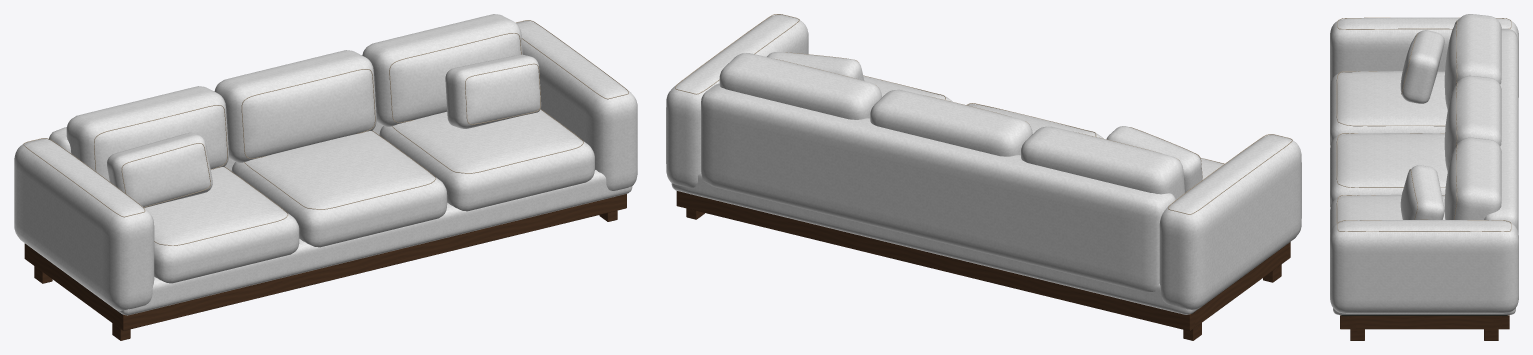
Rendered from arc-generous.glb.
3 views of the same model, side by side, from view 1: azimuth 30°, elevation 25°; view 2: azimuth 150°, elevation 25°; view 3: azimuth 270°, elevation 25° (orthographic). The views are drawn at different scales.
Parts seen in each view (by area): view 1: Tailored arm | left, Seat panel 2 | crowned top, Seat panel 3 | crowned top, Back cushion 2 | tensioned face, Seat panel 1 | crowned top, Upholstered support platform, Tailored arm | right, Back cushion 3 | tensioned face, Back cushion 1 | tensioned face, Walnut | long rail, Lumbar cushion | right, Lumbar cushion | left (+1 smaller); view 2: Continuous upholstered rear rail, Tailored arm | left, Walnut | long rail.001, Upholstered support platform, Tailored arm | right, Back cushion 1 | tensioned face, Back cushion 3 | tensioned face, Back cushion 2 | tensioned face, Lumbar cushion | left, Walnut | return rail, Lumbar cushion | right, Seat panel 2 | crowned top (+1 smaller); view 3: Tailored arm | right, Seat panel 2 | crowned top, Seat panel 1 | crowned top, Tailored arm | left, Back cushion 3 | tensioned face, Continuous upholstered rear rail, Back cushion 1 | tensioned face, Back cushion 2 | tensioned face, Lumbar cushion | left, Walnut | return rail.001, Lumbar cushion | right, Seat panel 3 | crowned top (+10 smaller).
Part boxes in pixels (box(x1,y1,x2,y2)): Tailored arm | left: box(14, 139, 154, 310); Seat panel 2 | crowned top: box(231, 131, 447, 247); Seat panel 3 | crowned top: box(379, 109, 594, 211); Back cushion 2 | tensioned face: box(214, 50, 376, 162); Seat panel 1 | crowned top: box(145, 167, 299, 283); Upholstered support platform: box(115, 170, 632, 315); Tailored arm | right: box(516, 21, 637, 190); Back cushion 3 | tensioned face: box(362, 14, 522, 126); Back cushion 1 | tensioned face: box(66, 86, 228, 181); Walnut | long rail: box(114, 194, 626, 330); Lumbar cushion | right: box(445, 54, 541, 128); Lumbar cushion | left: box(107, 132, 212, 207); Continuous upholstered rear rail: box(701, 83, 1175, 291); Tailored arm | left: box(1159, 135, 1301, 310); Walnut | long rail.001: box(676, 191, 1194, 331); Upholstered support platform: box(671, 172, 1197, 314); Tailored arm | right: box(666, 14, 808, 187); Back cushion 1 | tensioned face: box(1021, 126, 1184, 199); Back cushion 3 | tensioned face: box(719, 53, 881, 119); Back cushion 2 | tensioned face: box(870, 89, 1032, 156); Lumbar cushion | left: box(1106, 126, 1202, 192); Walnut | return rail: box(1195, 245, 1286, 327); Lumbar cushion | right: box(767, 52, 864, 80); Seat panel 2 | crowned top: box(967, 103, 1103, 138); Tailored arm | right: box(1330, 220, 1518, 313); Seat panel 2 | crowned top: box(1330, 133, 1447, 206); Seat panel 1 | crowned top: box(1330, 71, 1447, 144); Tailored arm | left: box(1330, 17, 1518, 97); Back cushion 3 | tensioned face: box(1444, 137, 1501, 219); Continuous upholstered rear rail: box(1484, 28, 1518, 232); Back cushion 1 | tensioned face: box(1444, 14, 1501, 109); Back cushion 2 | tensioned face: box(1444, 75, 1501, 171); Lumbar cushion | left: box(1400, 30, 1444, 103); Walnut | return rail.001: box(1347, 316, 1501, 329); Lumbar cushion | right: box(1400, 165, 1444, 219); Seat panel 3 | crowned top: box(1330, 194, 1445, 234).
Size of the model in its own units: 2.84 by 0.8154 by 1.03.
4 materials, 2 textured.
